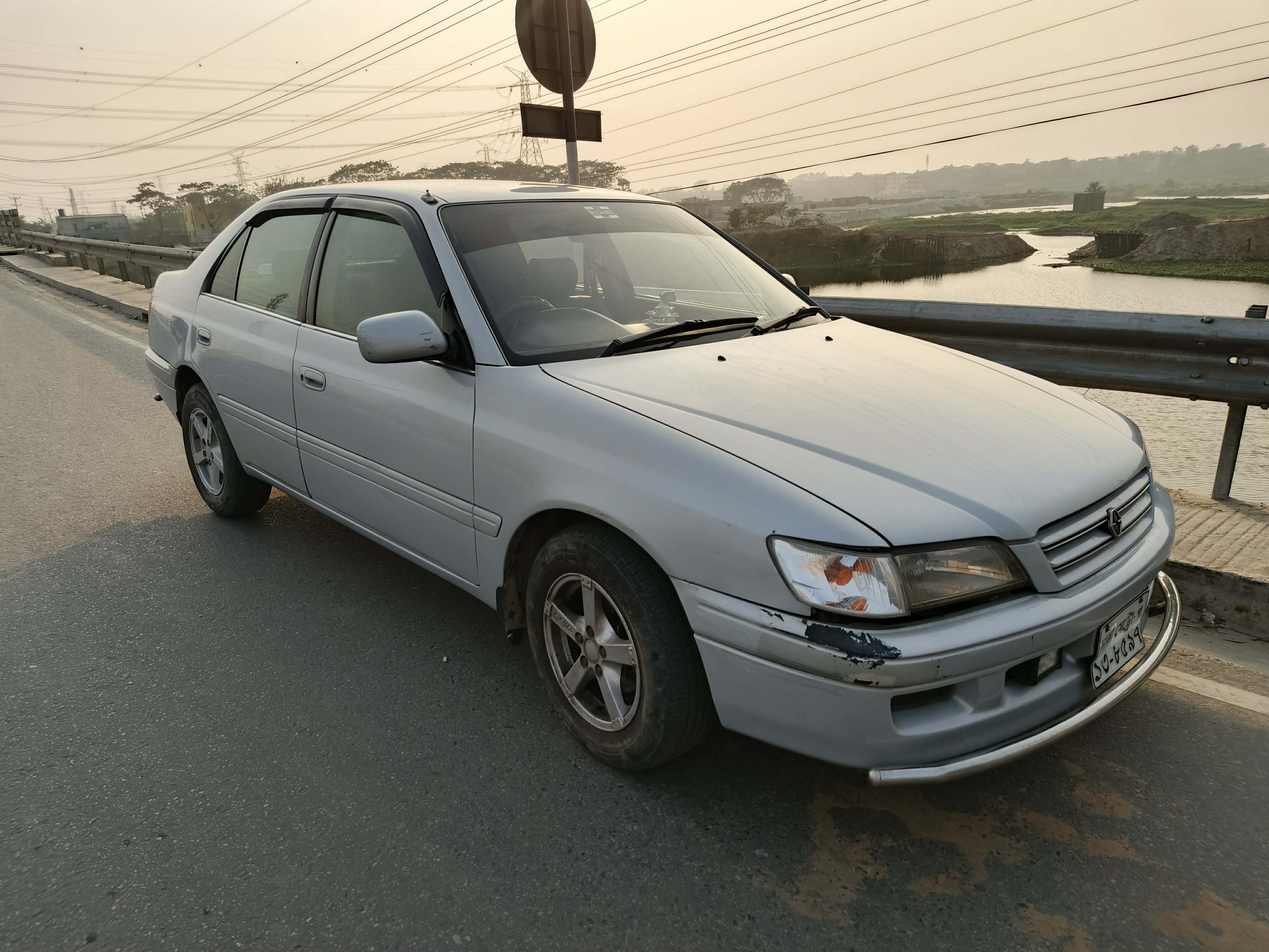private car: (128, 142, 1211, 796)
